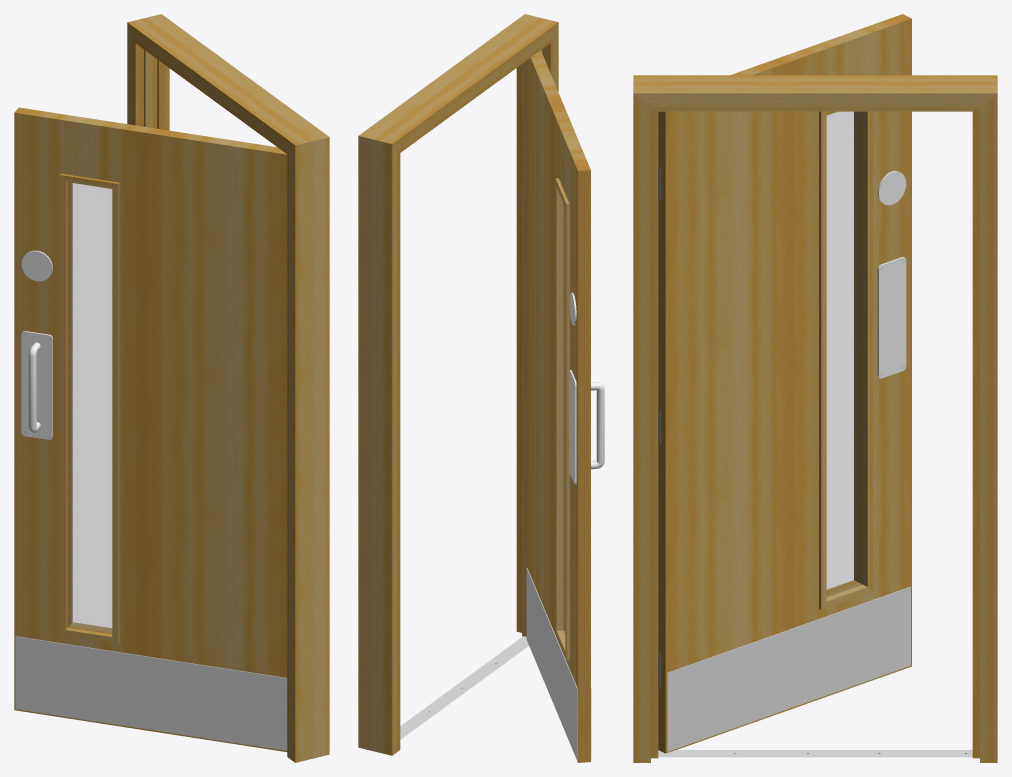
File: office_door_open_40_degrees.glb
3 renders of one model, left to right at view 1: azimuth 30°, elevation 25°; view 2: azimuth 150°, elevation 25°; view 3: azimuth 270°, elevation 25°, orthographic. The views are drawn at different scales.
Visible parts, largest first — view 1: SM Office Door; view 2: SM Office Door; view 3: SM Office Door.
Boxes of the visible parts, bbox=[...] form: SM Office Door: bbox=[14, 14, 329, 762]; SM Office Door: bbox=[358, 14, 604, 762]; SM Office Door: bbox=[633, 14, 997, 762].
Bounding box in the file's own units: 0.712 × 2.2 × 1.09.
Materials: 2 (2 with a texture image).
